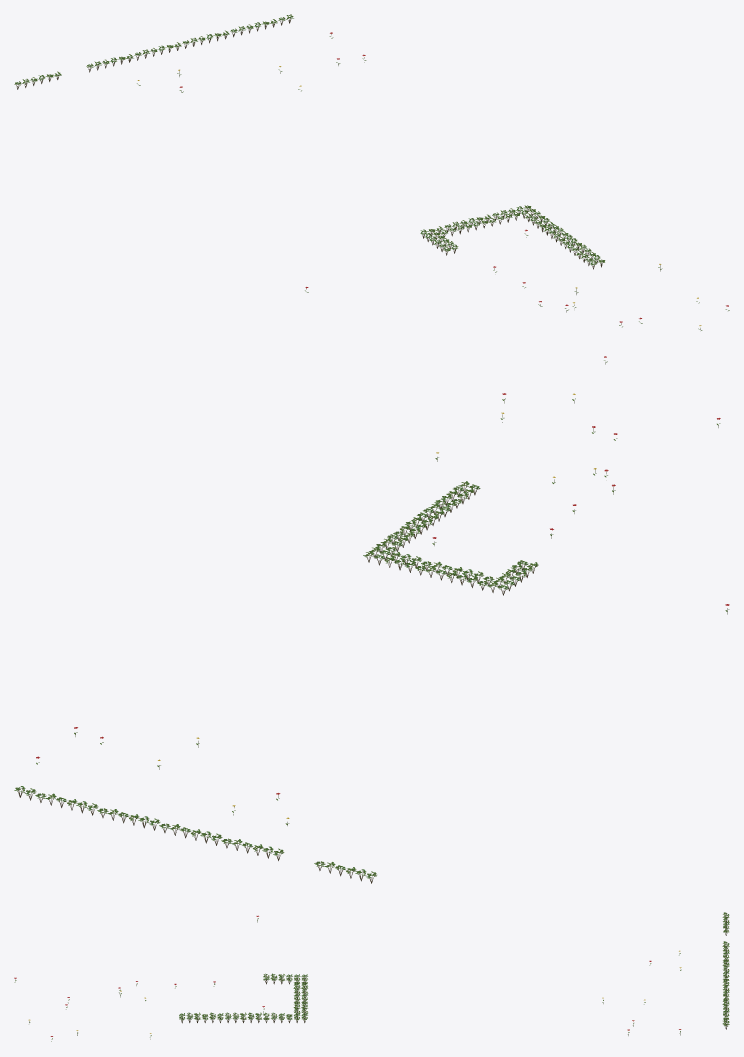
3 views of the same model, one above another, from view 1: azimuth 30°, elevation 25°; view 2: azimuth 150°, elevation 25°; view 3: azimuth 270°, elevation 25° (orthographic). The views are drawn at different scales.
Visible parts, largest first — view 1: GROUND_FLORA_s_-4_-3; view 2: GROUND_FLORA_s_-4_-3; view 3: GROUND_FLORA_s_-4_-3.
Part boxes in pixels (bbox=[...]): GROUND_FLORA_s_-4_-3: bbox=[14, 14, 729, 364]; GROUND_FLORA_s_-4_-3: bbox=[14, 393, 729, 883]; GROUND_FLORA_s_-4_-3: bbox=[14, 912, 729, 1041].
Bounding box in the file's own units: 38.69 × 0.9729 × 93.44.
